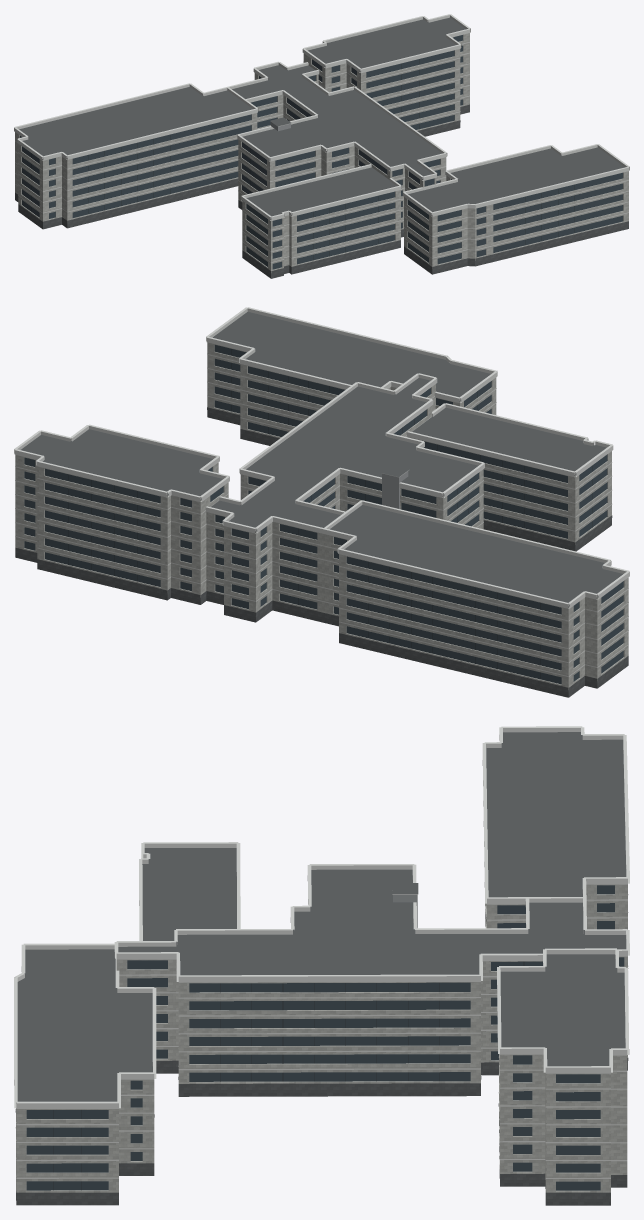
3 views of the same model, one above another, from view 1: azimuth 30°, elevation 25°; view 2: azimuth 150°, elevation 25°; view 3: azimuth 270°, elevation 25° (orthographic). The views are drawn at different scales.
Parts seen in each view (by area): view 1: mechEng__roof, mechEng__wall, mechEng__glass, mechEng__trim, mechEng__base, mechEng__frame; view 2: mechEng__roof, mechEng__wall, mechEng__glass, mechEng__trim, mechEng__base, mechEng__frame, mechEng__wall2; view 3: mechEng__roof, mechEng__wall, mechEng__glass, mechEng__trim, mechEng__base.
Part boxes in pixels (x1=…): mechEng__roof: x1=19, y1=17, x2=624, y2=219; mechEng__wall: x1=15, y1=33, x2=628, y2=272; mechEng__glass: x1=19, y1=35, x2=622, y2=269; mechEng__trim: x1=14, y1=14, x2=629, y2=262; mechEng__base: x1=15, y1=104, x2=628, y2=278; mechEng__frame: x1=31, y1=59, x2=574, y2=260; mechEng__roof: x1=21, y1=312, x2=622, y2=606; mechEng__wall: x1=15, y1=342, x2=628, y2=689; mechEng__glass: x1=24, y1=345, x2=623, y2=684; mechEng__trim: x1=14, y1=307, x2=629, y2=676; mechEng__base: x1=15, y1=407, x2=628, y2=697; mechEng__frame: x1=68, y1=349, x2=592, y2=678; mechEng__wall2: x1=382, y1=471, x2=408, y2=508; mechEng__roof: x1=17, y1=732, x2=626, y2=1101; mechEng__wall: x1=16, y1=884, x2=627, y2=1192; mechEng__glass: x1=26, y1=885, x2=624, y2=1190; mechEng__trim: x1=14, y1=726, x2=629, y2=1178; mechEng__base: x1=15, y1=904, x2=628, y2=1205.
Bounding box in the file's own units: 164 × 29.5 × 119.
Materials: 9 (2 with a texture image).
